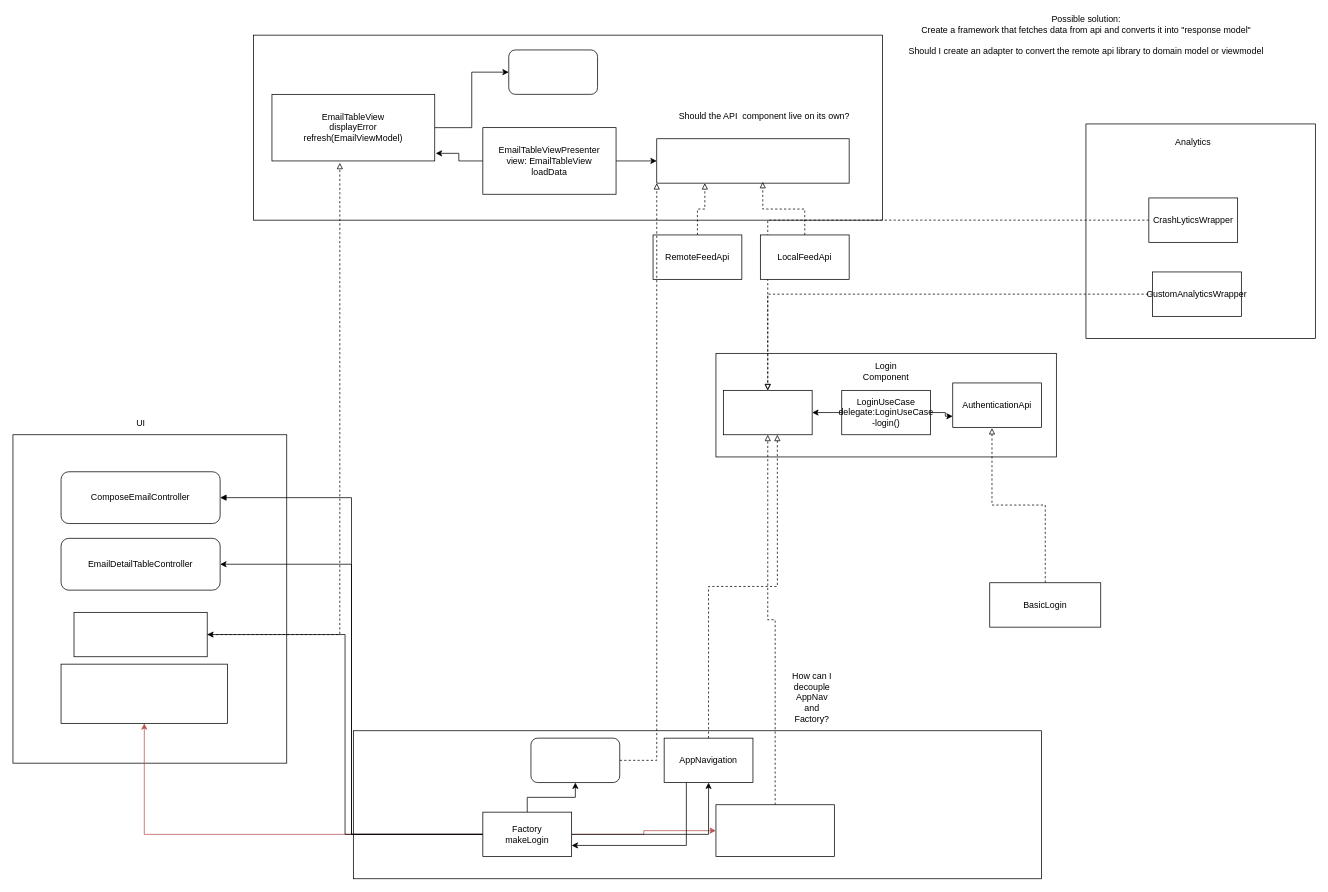
This 1328x892 diagram has some shape labels left out. The centre of each missing label's shape, as x and y in pixels:
EmailTableViewController select(EmailViewModel)->() load([EmailViewModel]) ->(): point 140,634
EmailViewModel: point 553,71
FeedApi getFeed(search:String, page:Int, size:Int) getEmail(emailId:Int): point 752,160
FeedComposer: point 575,760
LoginComposer [LoginUseCaseOutput]: point 774,830
LoginUseCaseOutput - success - failure: point 767,412
LoginViewController login()->(): point 144,693
